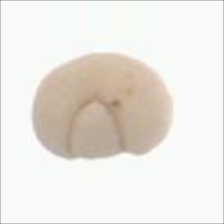L5: (66, 95, 129, 165)
L6: (27, 49, 177, 165)
